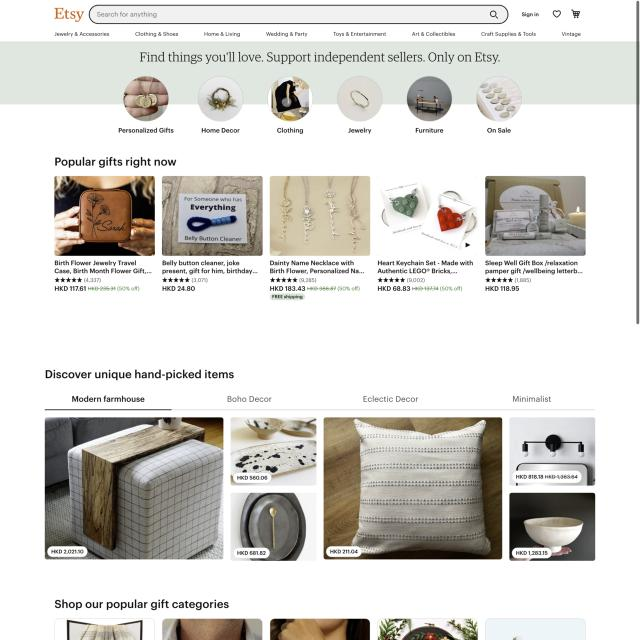input: (88, 4, 510, 25)
logo: (50, 4, 86, 25)
navigation: (115, 75, 527, 137), (53, 31, 584, 40)
